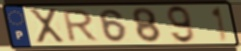1: (211, 5, 229, 44)
6: (98, 8, 129, 44)
8: (131, 6, 163, 45)
9: (166, 4, 197, 45)
R: (61, 8, 101, 44)
X: (27, 8, 67, 45)
